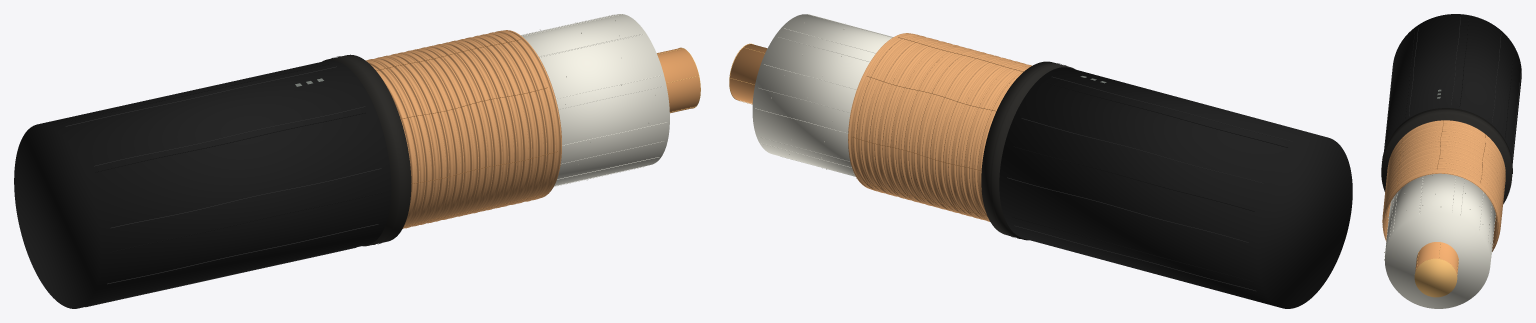
The model's file is rf-ldf5-macro.glb.
The picture shows the model from 3 angles, left to right: view 1: azimuth 30°, elevation 25°; view 2: azimuth 150°, elevation 25°; view 3: azimuth 270°, elevation 25°; orthographic projection. The views are drawn at different scales.
Visible parts, largest first — view 1: macro hardline jacket body, annular corrugated solid shield, macro foam dielectric exposed core, hardline jacket cut wall, polished solid center conductor, rounded jacket cut lip; view 2: macro hardline jacket body, annular corrugated solid shield, macro foam dielectric exposed core, hardline jacket cut wall, polished solid center conductor, rounded jacket cut lip; view 3: macro hardline jacket body, macro foam dielectric exposed core, annular corrugated solid shield, hardline jacket cut wall, polished conductor cut face glow, polished solid center conductor, rounded jacket cut lip.
Part boxes in pixels (x1,y1,x2,y2): macro hardline jacket body: (14, 60, 391, 308); annular corrugated solid shield: (365, 30, 561, 228); macro foam dielectric exposed core: (521, 14, 669, 186); hardline jacket cut wall: (322, 54, 411, 246); polished solid center conductor: (657, 48, 700, 113); rounded jacket cut lip: (331, 56, 401, 244); macro hardline jacket body: (999, 67, 1352, 308); annular corrugated solid shield: (848, 33, 1031, 221); macro foam dielectric exposed core: (752, 14, 892, 176); hardline jacket cut wall: (981, 61, 1075, 240); polished solid center conductor: (729, 44, 767, 103); rounded jacket cut lip: (989, 63, 1066, 238); macro hardline jacket body: (1384, 14, 1521, 163); macro foam dielectric exposed core: (1384, 173, 1495, 308); annular corrugated solid shield: (1382, 120, 1505, 251); hardline jacket cut wall: (1381, 108, 1512, 203); polished conductor cut face glow: (1414, 258, 1457, 297); polished solid center conductor: (1415, 242, 1458, 276); rounded jacket cut lip: (1383, 110, 1512, 173).
Bounding box in the file's own units: 19.07 × 5.13 × 5.47.
